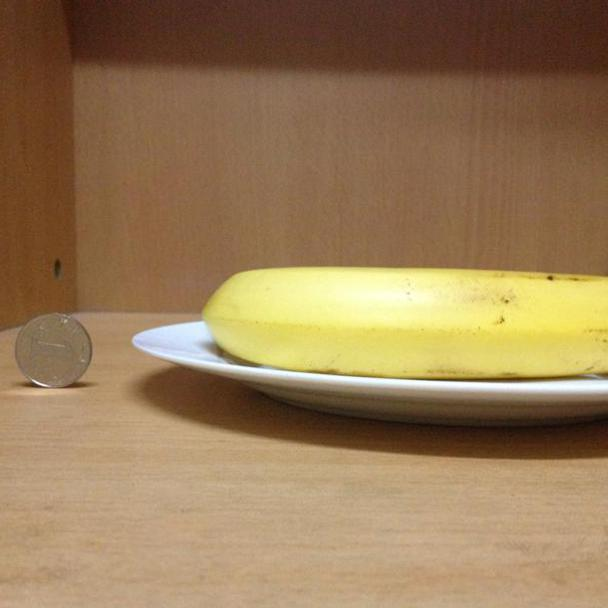banana: (200, 261, 608, 379)
